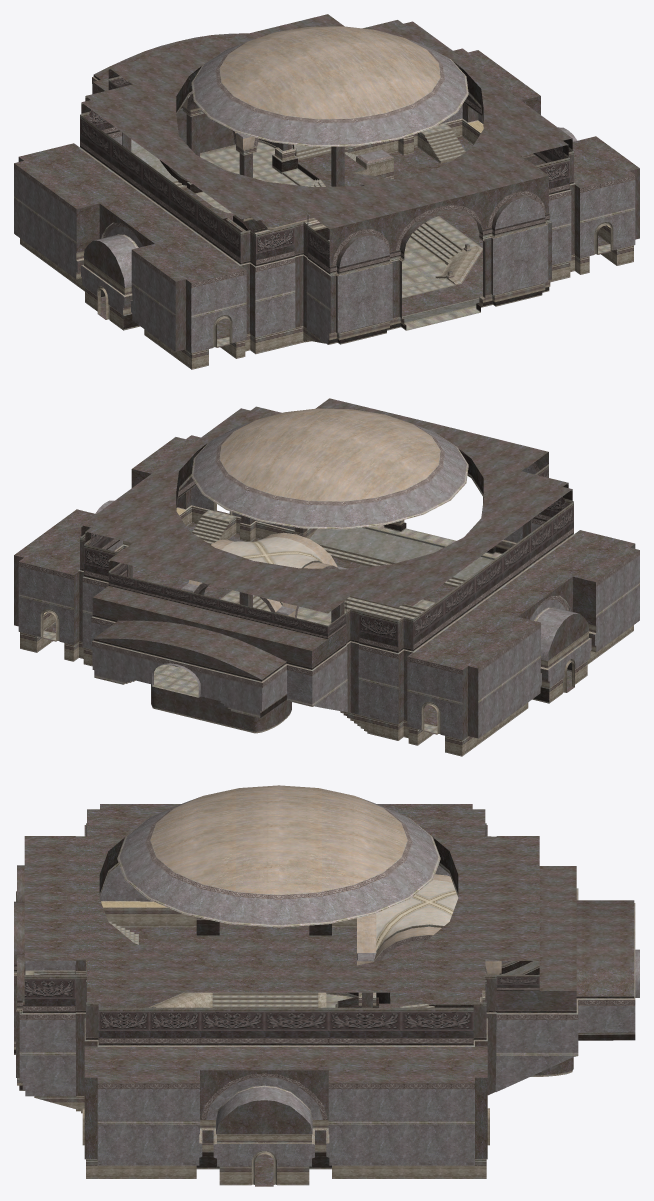
File: mun_nboo_capitol_s01_r3_lobby_mesh_lobby.fbx
3 renders of one model, top to bottom at view 1: azimuth 30°, elevation 25°; view 2: azimuth 150°, elevation 25°; view 3: azimuth 270°, elevation 25°, orthographic. The views are drawn at different scales.
Visible parts, largest first — view 1: mesh_node; view 2: mesh_node; view 3: mesh_node.
Part boxes in pixels (x1,y1,x2,y2): mesh_node: (14, 14, 639, 369); mesh_node: (14, 398, 639, 756); mesh_node: (14, 785, 639, 1186).
Bounding box in the file's own units: 55.17 × 24.19 × 54.68.
